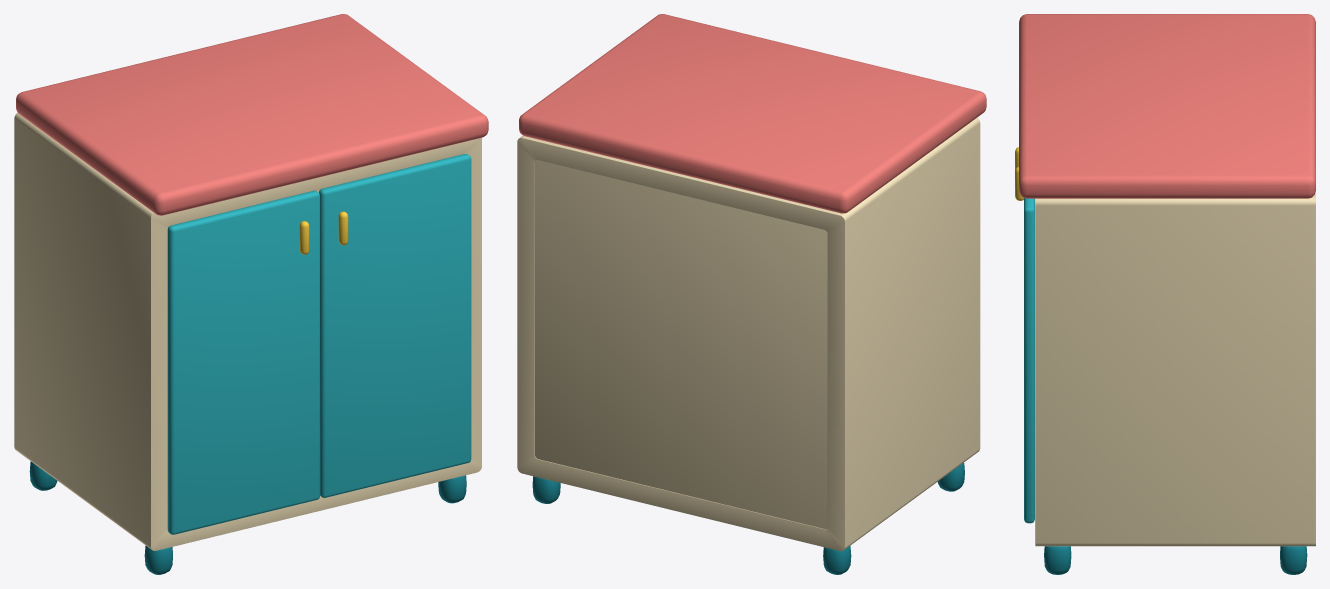
File: armario_cozinha_base_2portas_moderna_coral.glb
3 views of the same model, side by side, from view 1: azimuth 30°, elevation 25°; view 2: azimuth 150°, elevation 25°; view 3: azimuth 270°, elevation 25° (orthographic). The views are drawn at different scales.
Visible parts, largest first — view 1: armario_cozinha_base_2portas_moderna_coral, porta_1, porta_2; view 2: armario_cozinha_base_2portas_moderna_coral; view 3: armario_cozinha_base_2portas_moderna_coral, porta_2.
Part boxes in pixels (left/top/right/bottom): armario_cozinha_base_2portas_moderna_coral: left=14, top=14, right=488, bottom=574; porta_1: left=167, top=190, right=319, bottom=534; porta_2: left=319, top=154, right=471, bottom=497; armario_cozinha_base_2portas_moderna_coral: left=517, top=14, right=986, bottom=574; armario_cozinha_base_2portas_moderna_coral: left=1019, top=14, right=1315, bottom=574; porta_2: left=1015, top=166, right=1034, bottom=523.
Size of the model in its own units: 0.798 by 0.9 by 0.607.
1 material, 1 textured.
